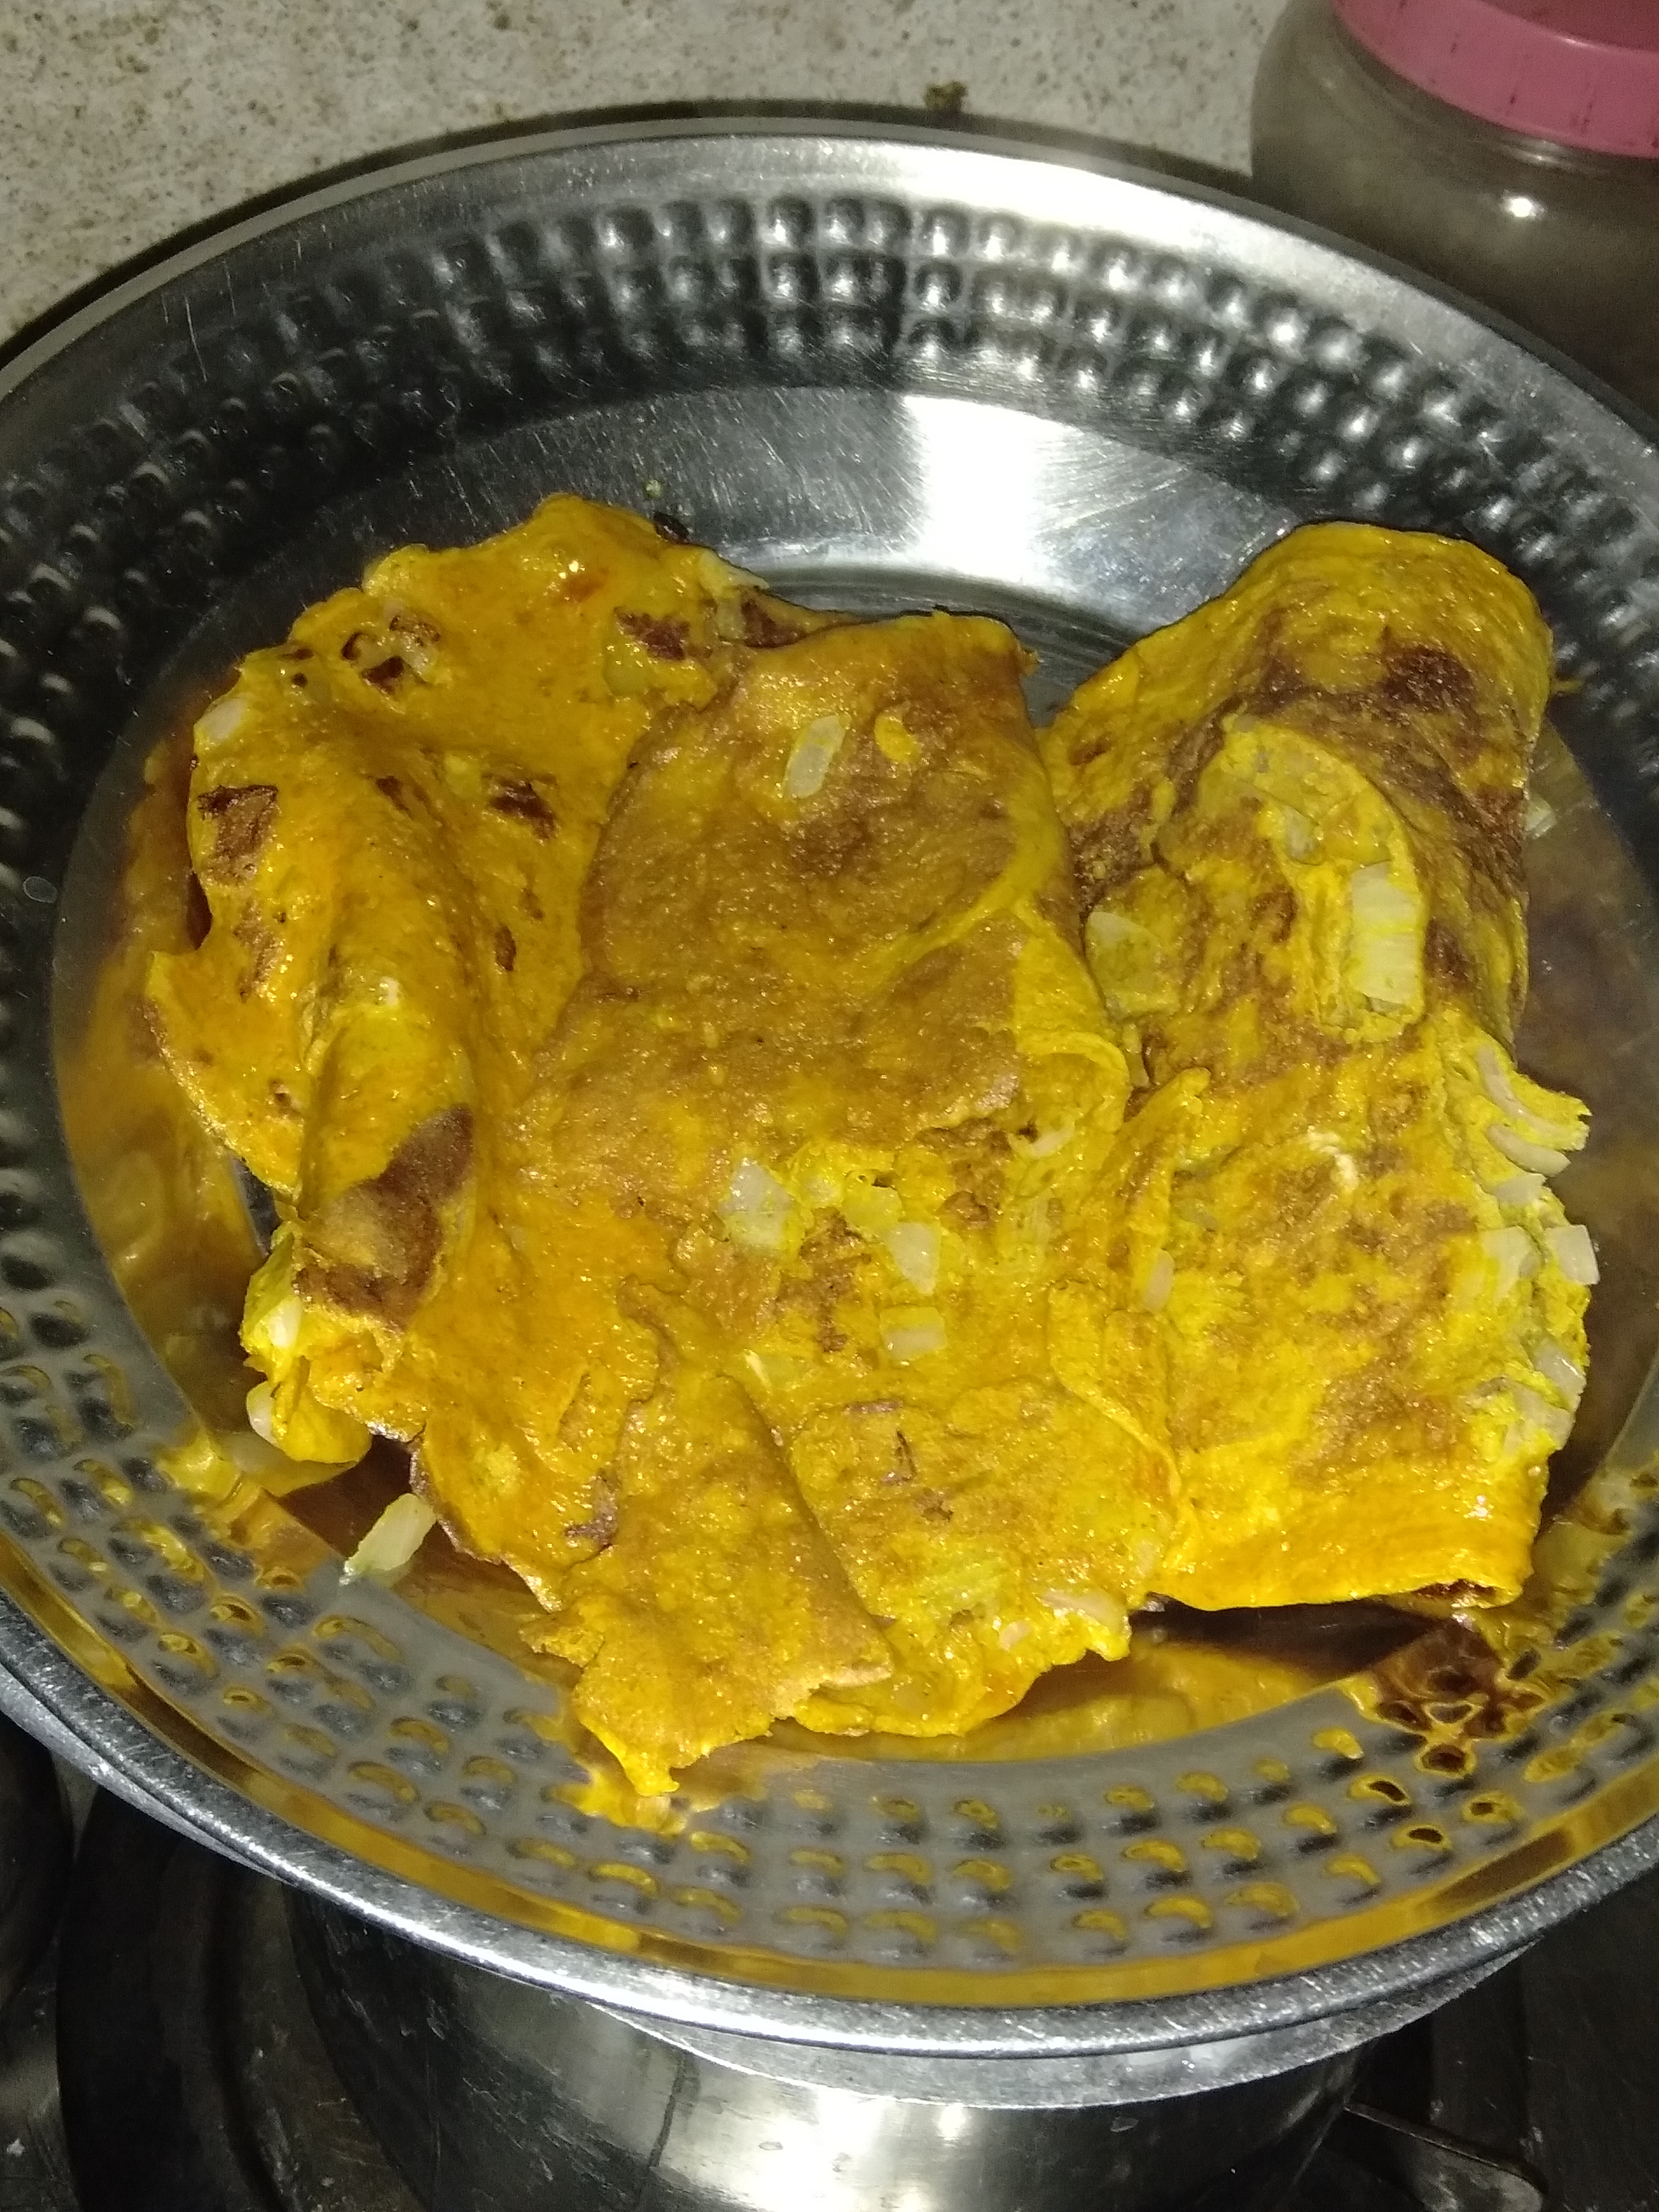food: (132, 477, 1612, 1813)
